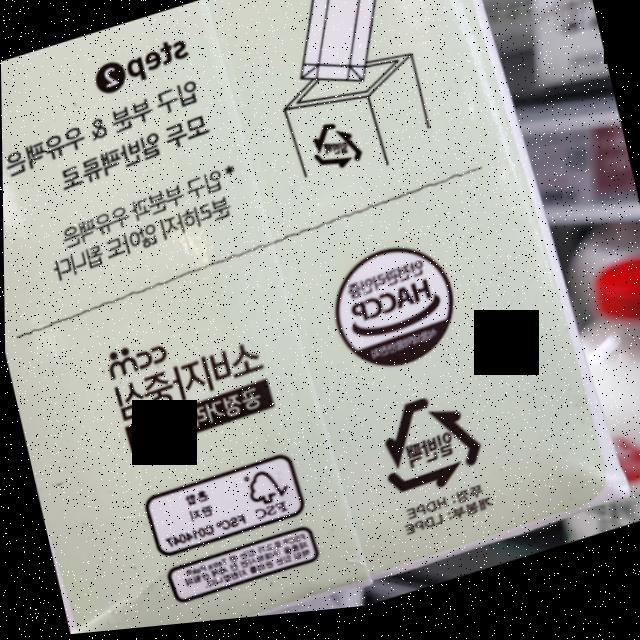NormalPack: (365, 381, 491, 516)
